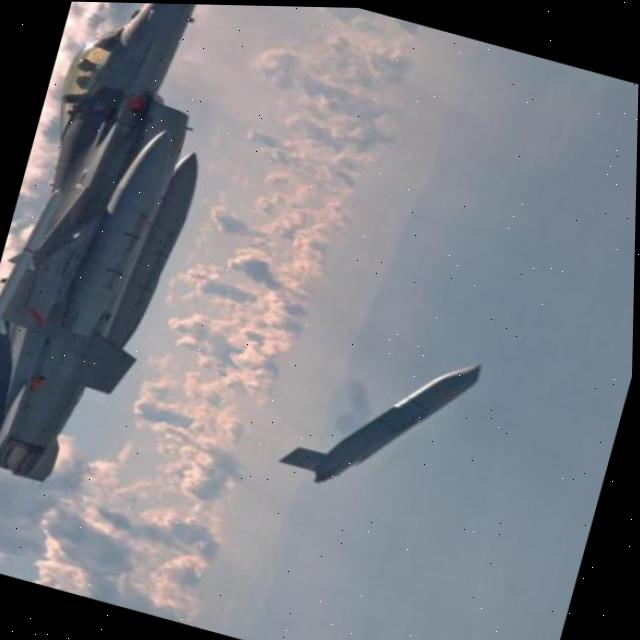missile: (0, 92, 205, 541)
